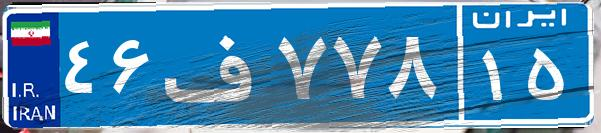1: (475, 38, 525, 113)
4: (57, 26, 110, 107)
5: (525, 38, 570, 115)
6: (110, 28, 158, 105)
7: (273, 28, 330, 110), (330, 28, 385, 110)
8: (385, 28, 445, 110)
ف: (158, 15, 273, 115)
